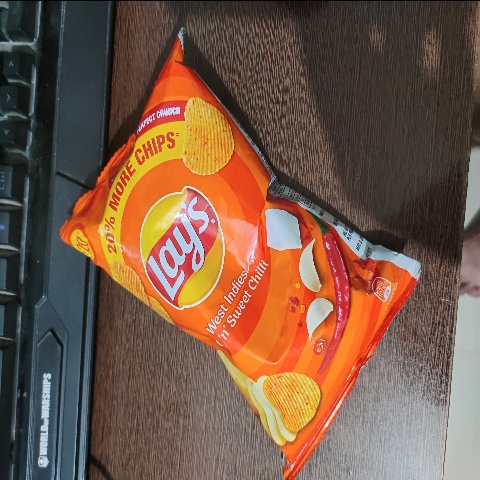lays_orange_pack: (49, 42, 422, 460)
